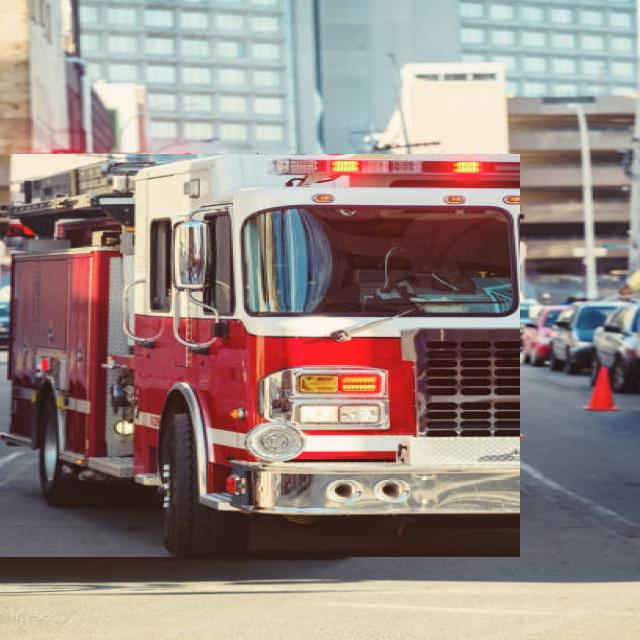emergency: (0, 155, 520, 557)
